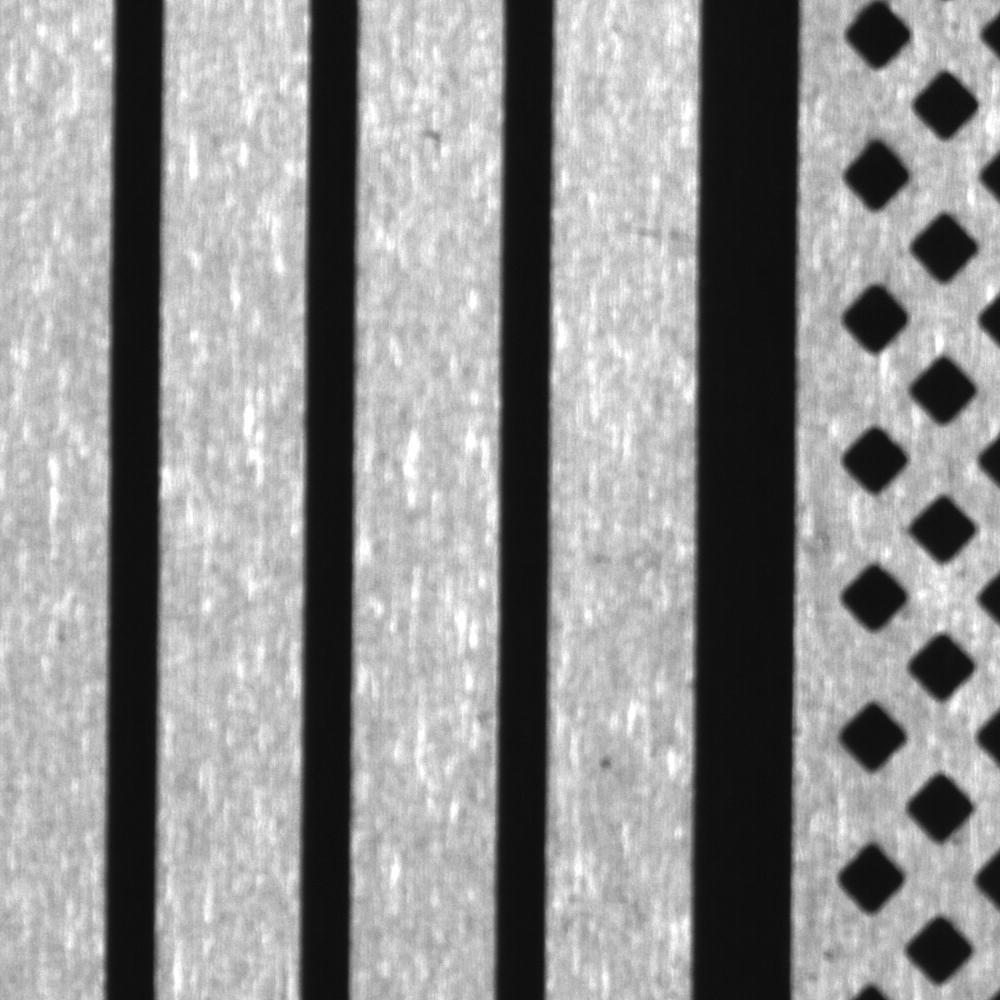Etching: (407, 119, 464, 162)
Pinhole: (587, 731, 636, 794)
Scar: (614, 208, 701, 257)
